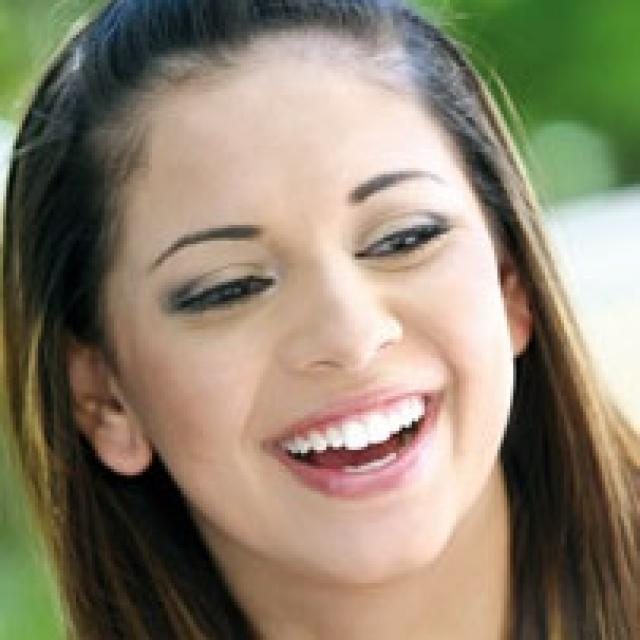Normal: (98, 30, 519, 590)
